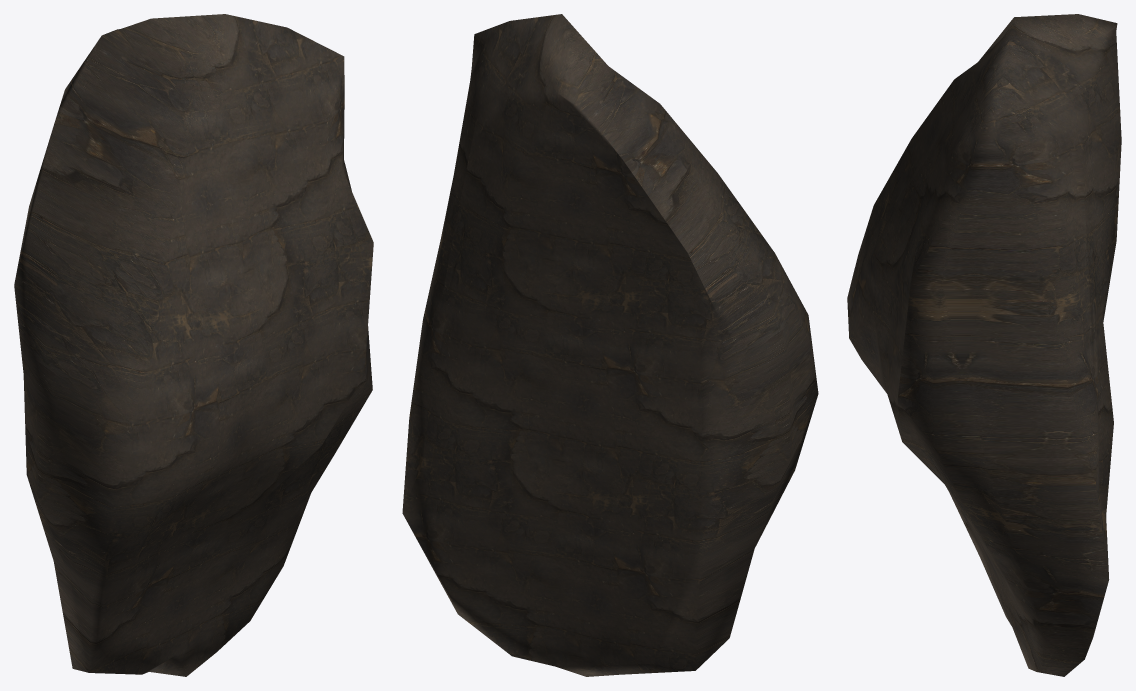
Rendered from cliff_buttress_a_lod2.gltf.
3 views of the same model, side by side, from view 1: azimuth 30°, elevation 25°; view 2: azimuth 150°, elevation 25°; view 3: azimuth 270°, elevation 25° (orthographic). The views are drawn at different scales.
Parts seen in each view (by area): view 1: cliff_buttress_a_LOD2; view 2: cliff_buttress_a_LOD2; view 3: cliff_buttress_a_LOD2.
Boxes of the visible parts, x1,y1,x2,y2 form: cliff_buttress_a_LOD2: (14, 14, 373, 676); cliff_buttress_a_LOD2: (402, 14, 818, 676); cliff_buttress_a_LOD2: (847, 14, 1121, 676).
Size of the model in its own units: 13.54 by 26 by 9.69.
Materials: 1 (1 with a texture image).
